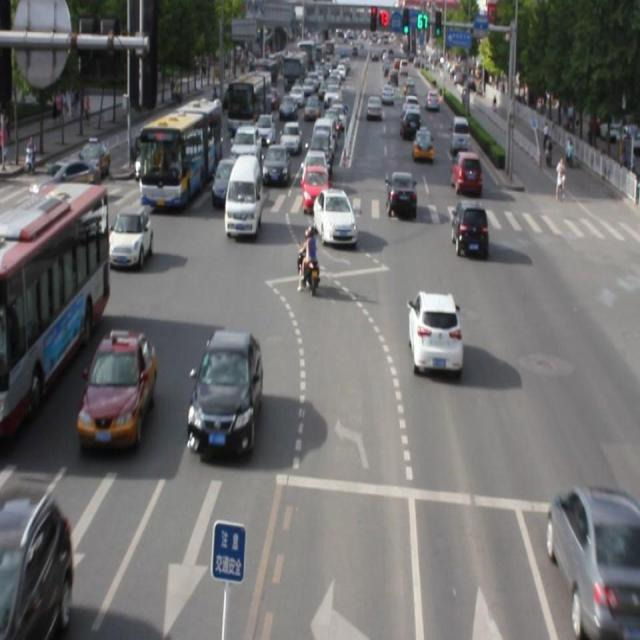BigCar: (6, 147, 109, 417), (154, 84, 216, 200)
car: (538, 479, 637, 640), (4, 467, 70, 632), (194, 325, 263, 473), (78, 313, 152, 447), (411, 289, 451, 388), (310, 182, 355, 264), (110, 200, 149, 290), (448, 190, 488, 269), (231, 153, 258, 251), (386, 163, 421, 234), (445, 135, 482, 198), (302, 148, 329, 209), (314, 105, 350, 147), (276, 106, 307, 150), (412, 124, 439, 172), (264, 142, 289, 188), (218, 148, 236, 204), (424, 76, 444, 122), (362, 88, 382, 128), (285, 86, 316, 106)
